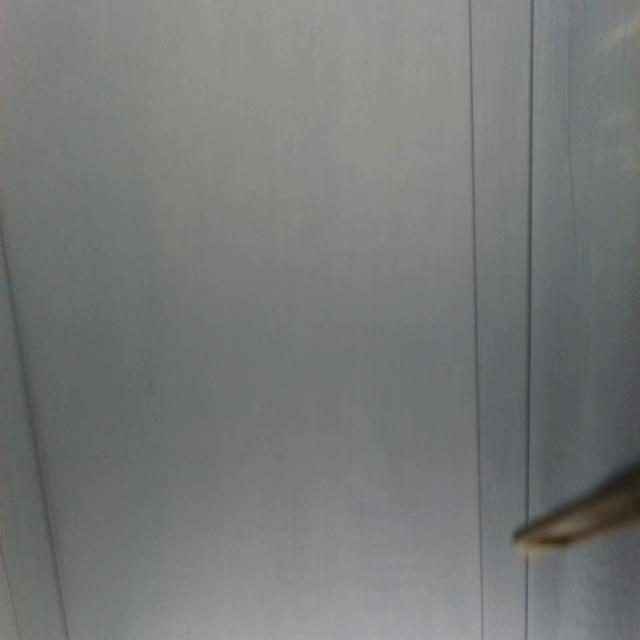crease: (0, 212, 72, 640), (465, 0, 486, 640), (524, 0, 536, 518), (566, 0, 580, 258), (0, 536, 24, 640), (521, 556, 532, 640)
